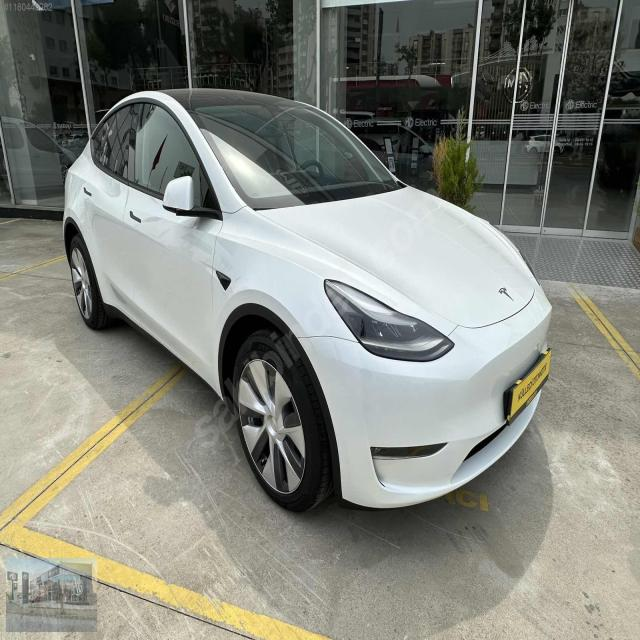tesla: (496, 284, 516, 308)
